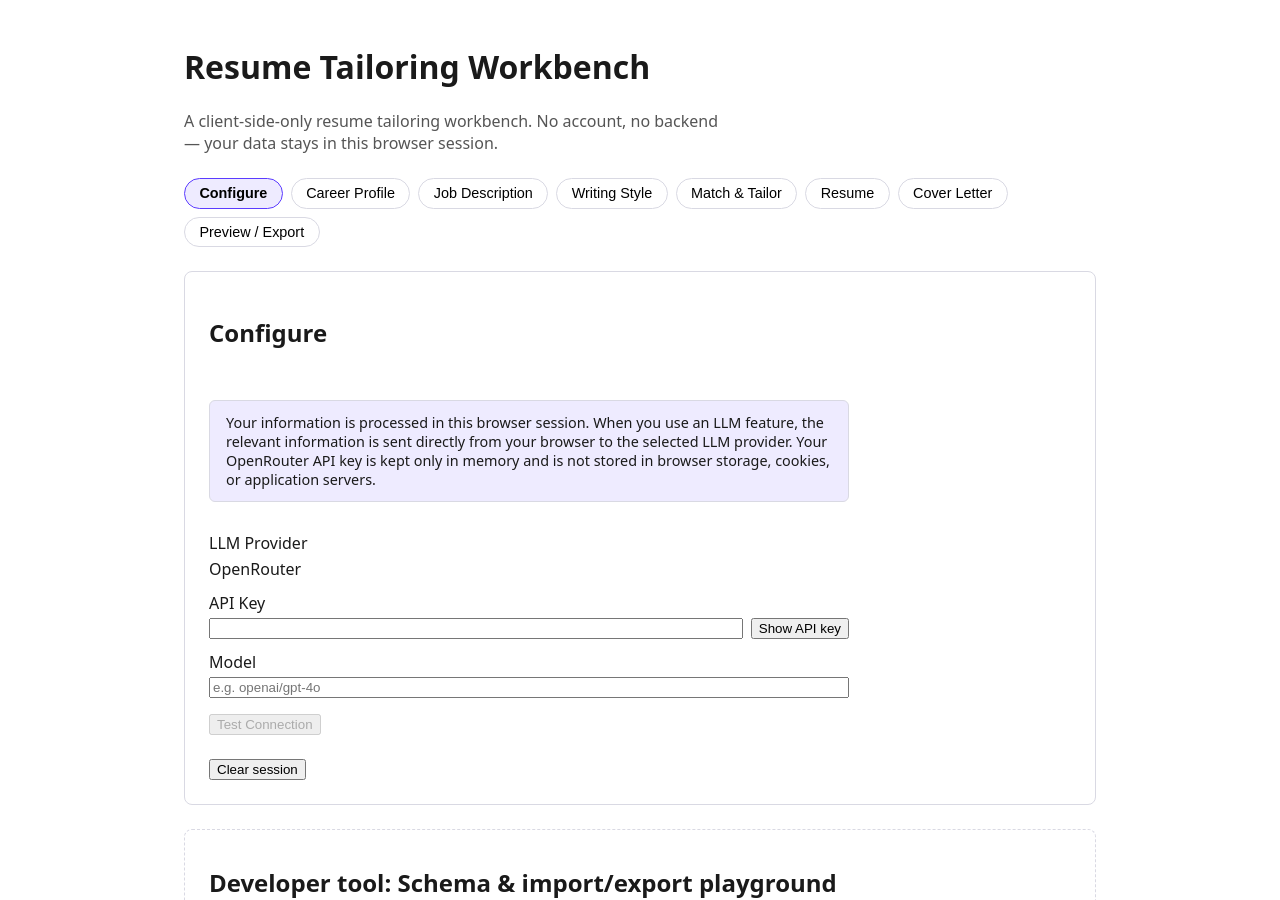
Session state and privacy boundary › removes the API key from application state when the session is cleared
Click the button "Configure": (233, 193) [184,178,283,209]
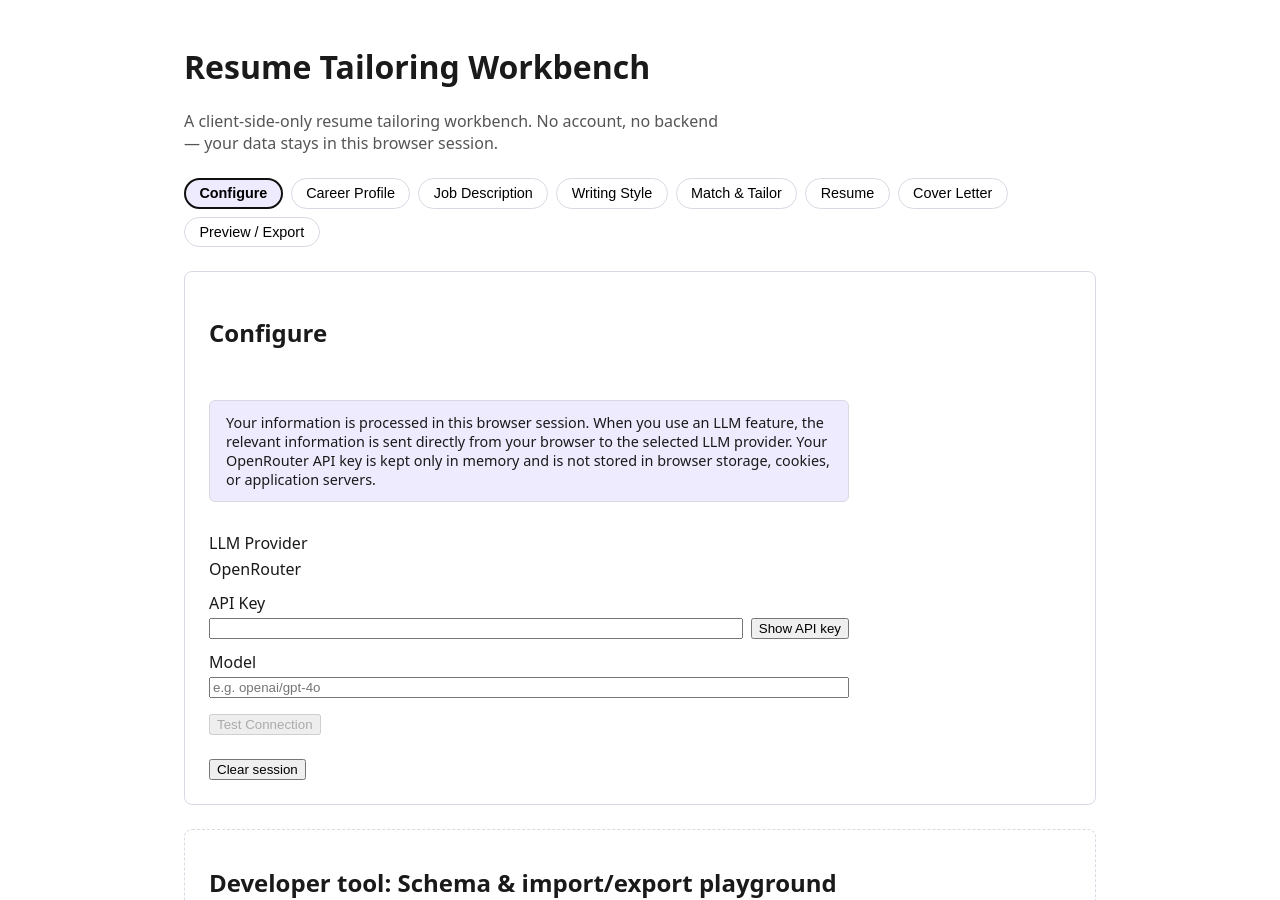
In the password field labelled "API Key": (476, 628) [209,618,743,639], type "sk-test-secret-12345"
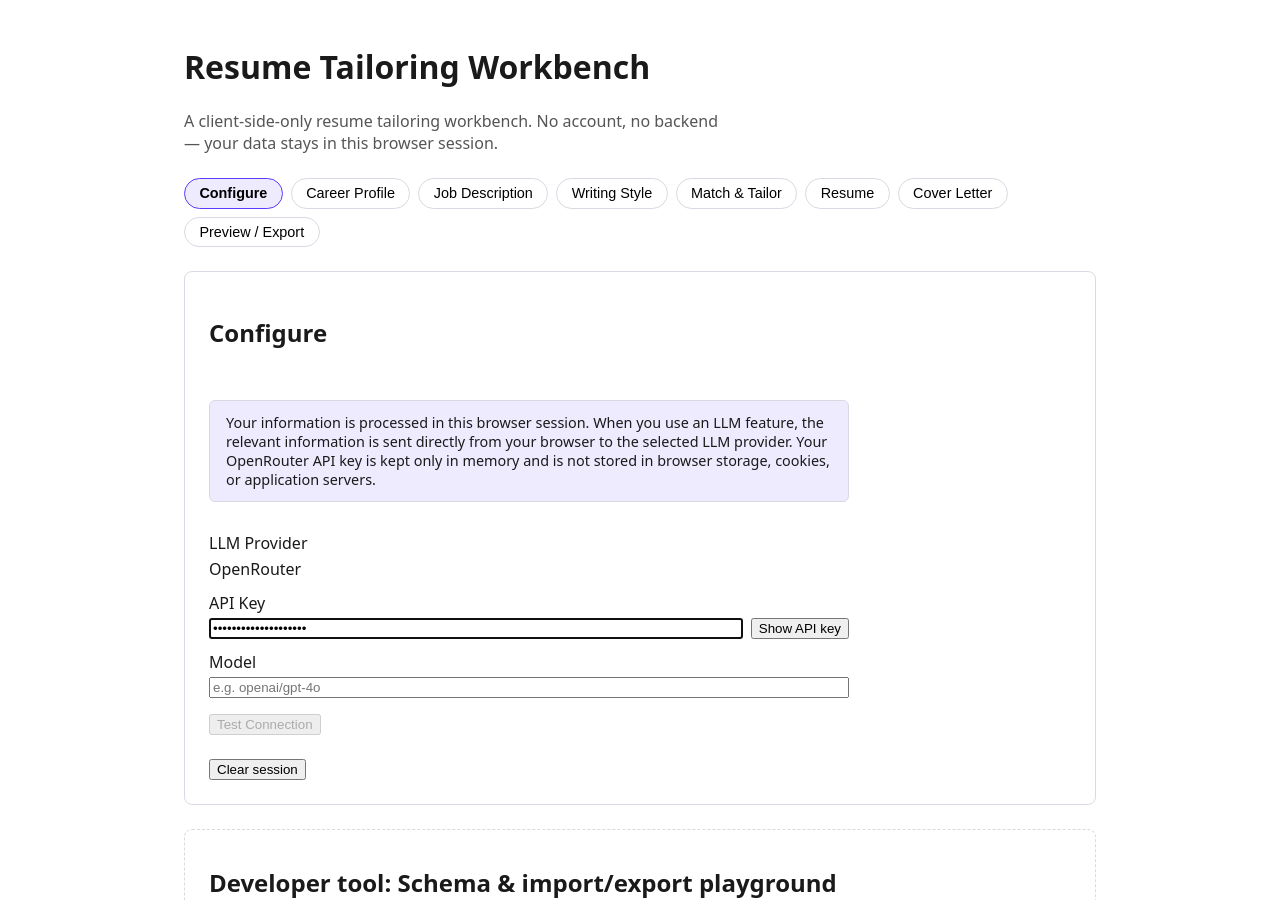
In the field labelled "Model": (529, 688) [209,677,849,698], type "openai/gpt-4o"
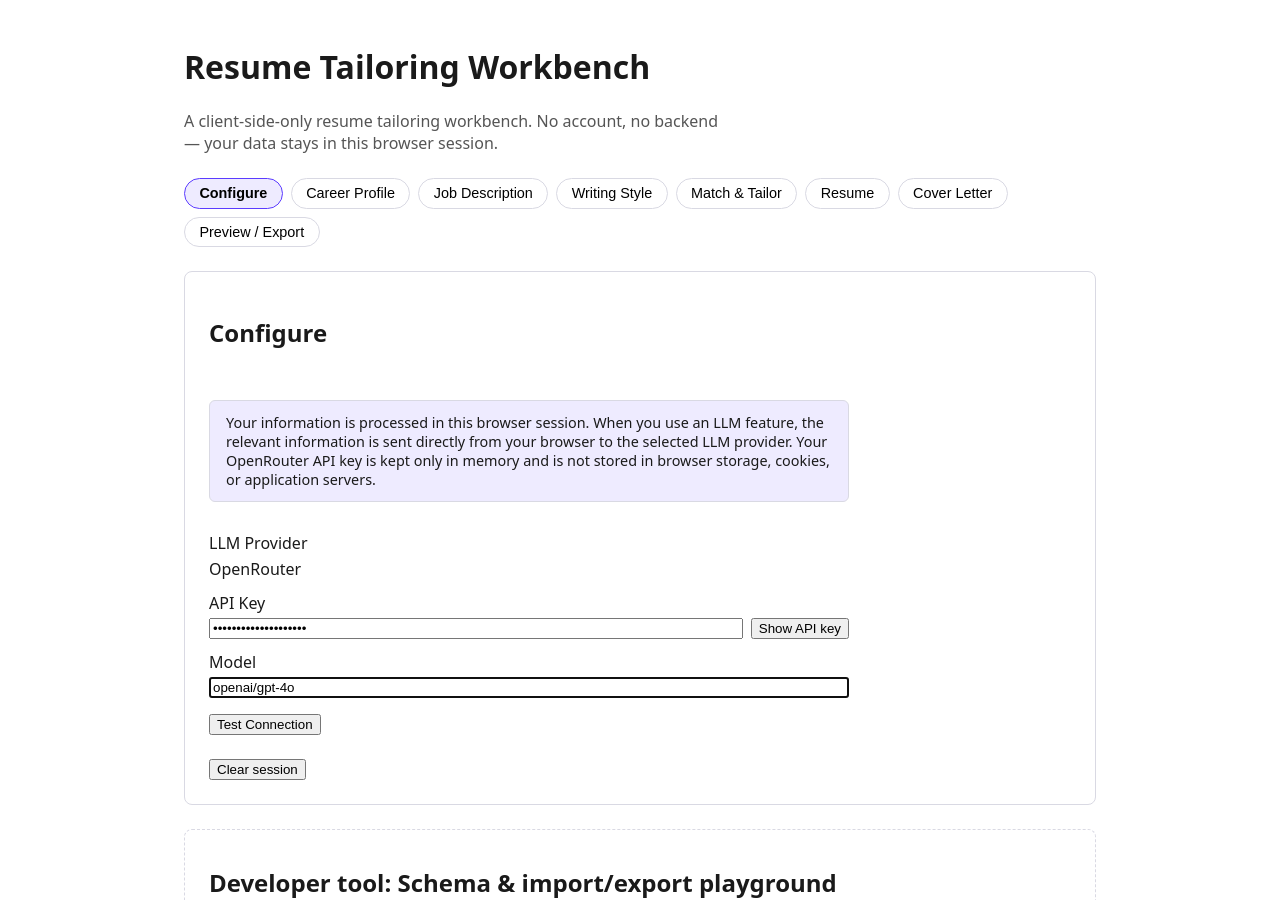
Click the button "Clear session": (257, 770) [209,759,306,780]
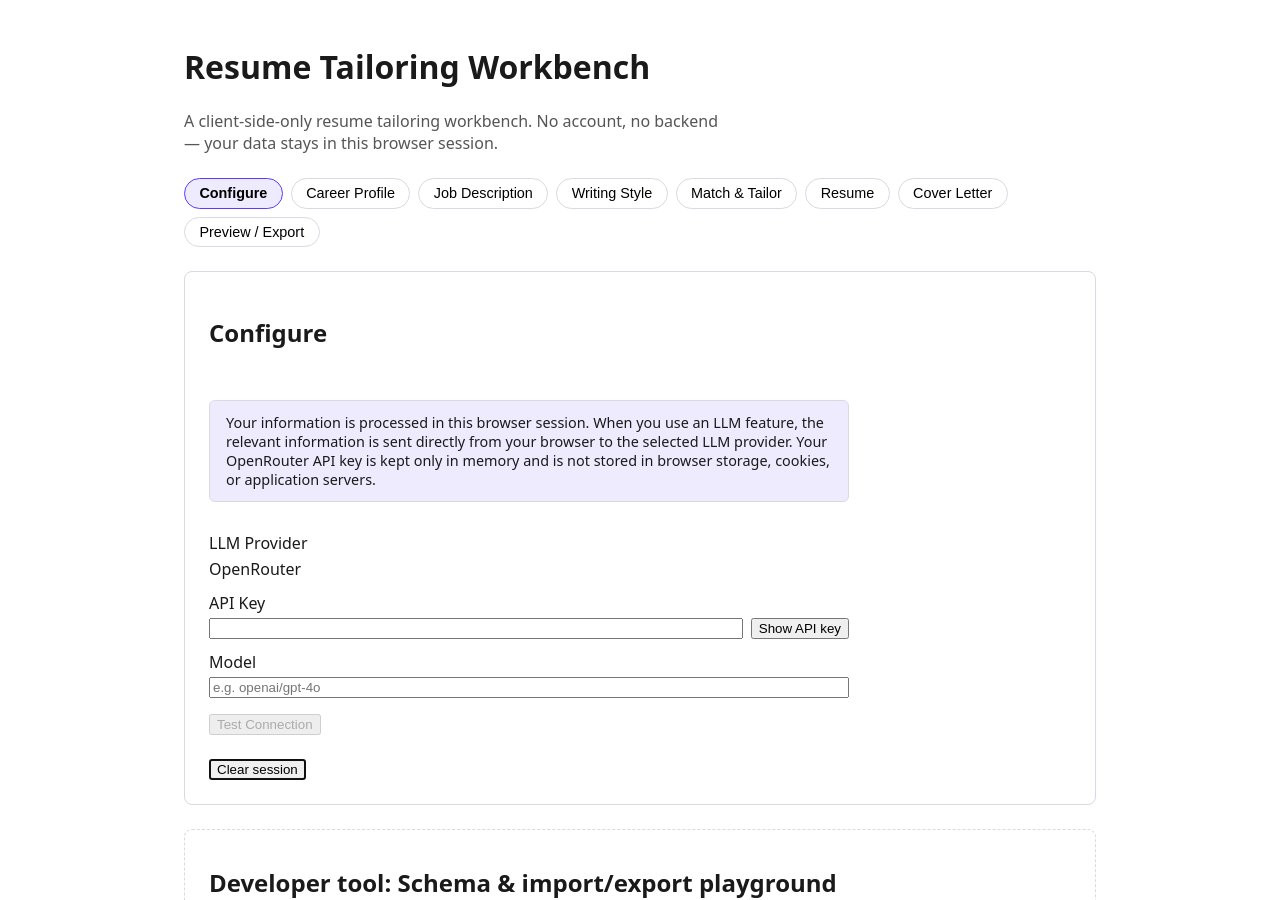
Expected: the password field labelled "API Key" is empty, [209,618,743,639]
